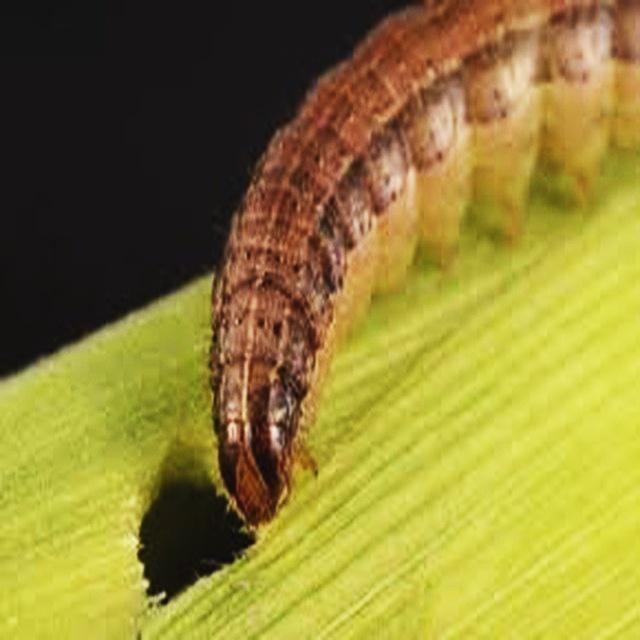gusano_cogollero: (210, 0, 640, 529)
